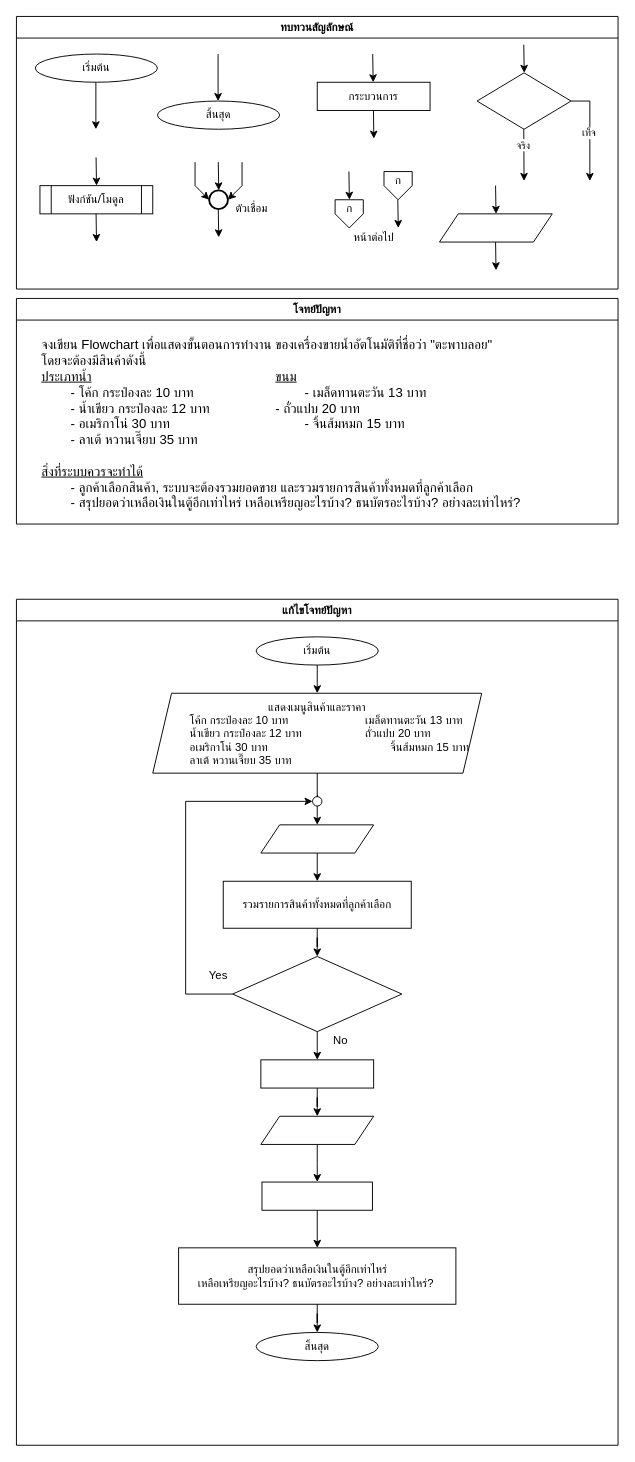
The diagram is 635 pixels wide and 1462 high, and some of its shapes have lost their labels. Here are the shapes that lost their labels. From the top down, the centre of each, then its label:
point (523, 100): ประโยคเงื่อนไข
point (495, 227): แสดงผล/รับค่า
point (317, 838): ลูกค้าเลือกสินค้า
point (317, 994): ลูกค้าจะเลือกเพิ่มหรือไม่?
point (317, 1073): รวมยอดขายสินค้า
point (317, 1129): ลูกค้าจ่ายเงิน
point (316, 1195): จ่ายสินค้าให้ลูกค้า
